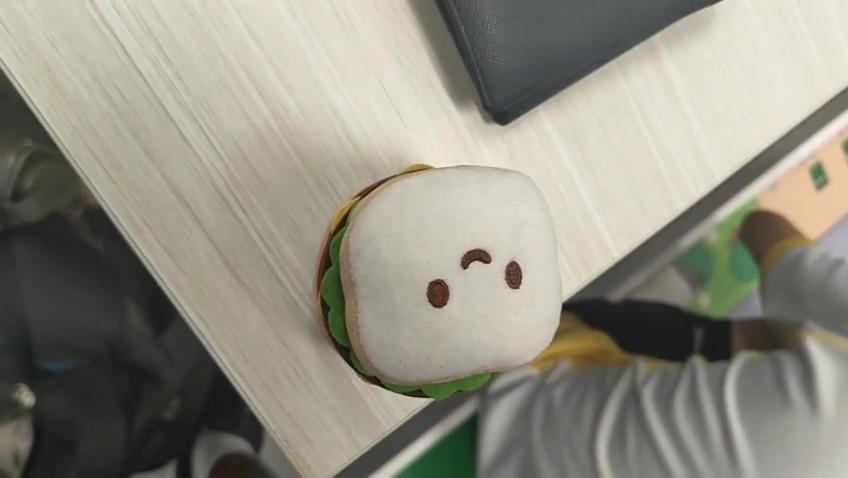objects: (317, 157, 566, 404)
